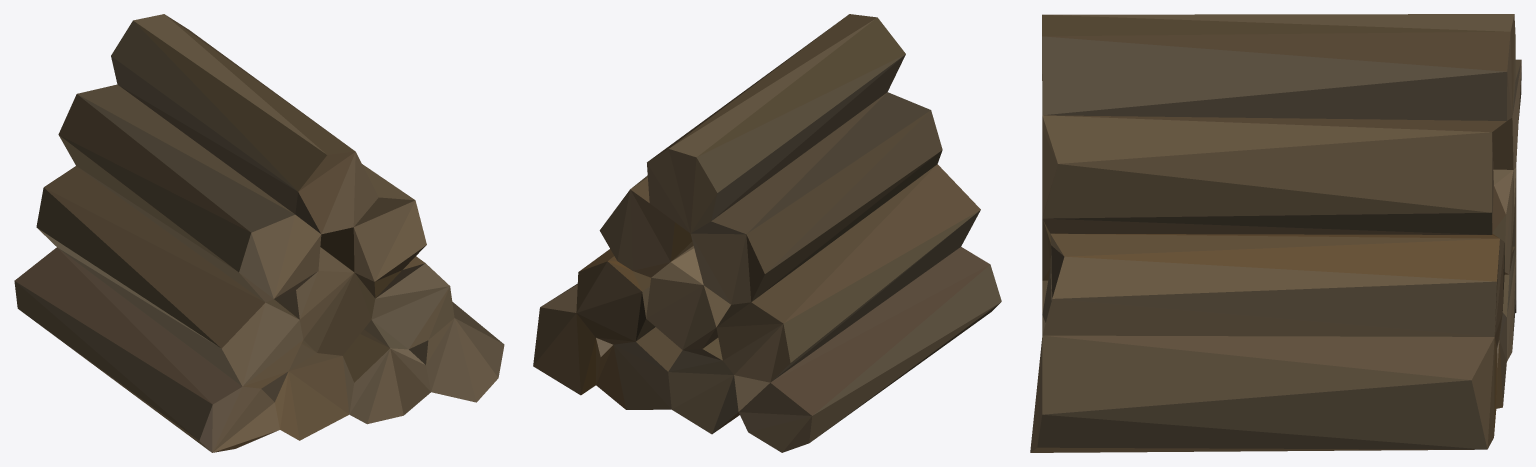
Rendered from Firewood_A.fbx.
3 views of the same model, side by side, from view 1: azimuth 30°, elevation 25°; view 2: azimuth 150°, elevation 25°; view 3: azimuth 270°, elevation 25° (orthographic). The views are drawn at different scales.
Visible parts, largest first — view 1: Firewood_A; view 2: Firewood_A; view 3: Firewood_A.
Part boxes in pixels (bbox=[...]): Firewood_A: bbox=[14, 14, 504, 452]; Firewood_A: bbox=[533, 14, 1001, 452]; Firewood_A: bbox=[1030, 14, 1521, 452].
Bounding box in the file's own units: 111 × 97.79 × 125.
